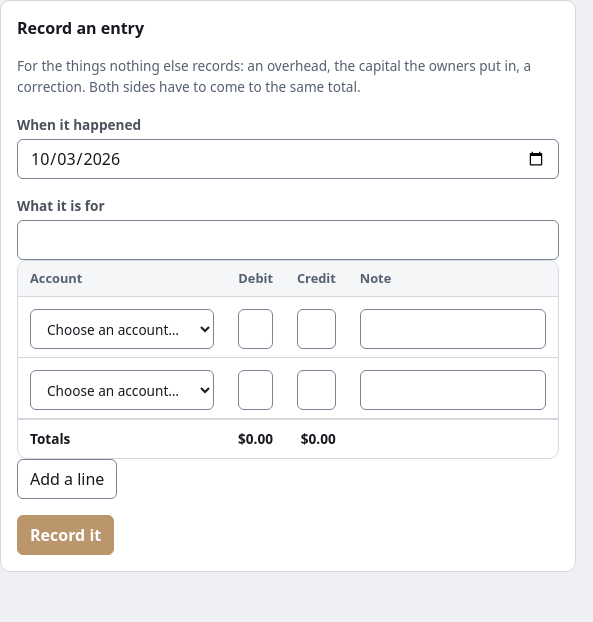
it: recording an entry by hand › will not send an entry that does not balance, and says by how much
Type "Wrong on purpose" into the field labelled "What it is for".
click(288, 240); type("Wrong on purpose")  # box [17,220,559,260]
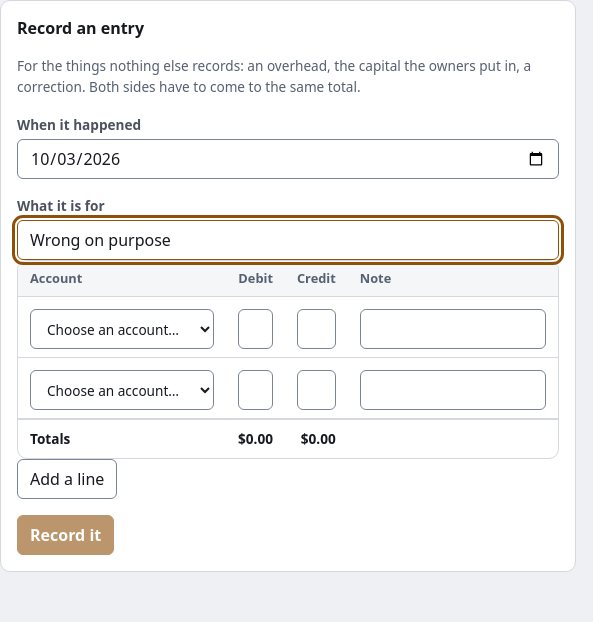
Select "6100 — Rent and premises" in the dropdown named "Account on line 1" at (122, 330), box [30,310,214,350]
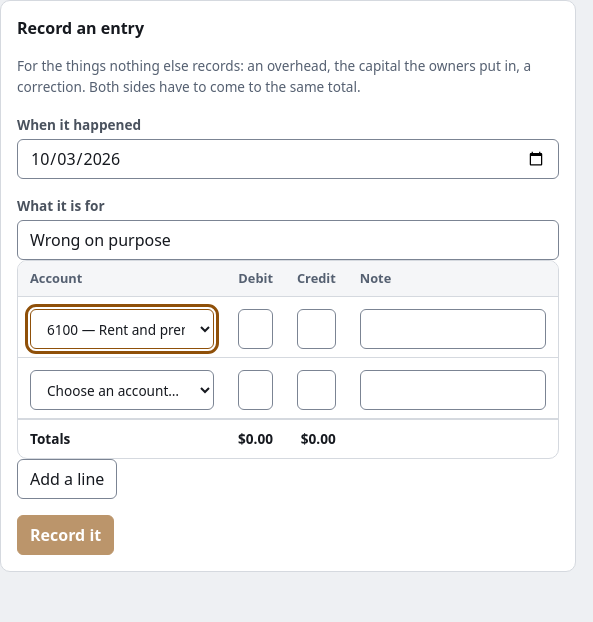
Type "1000" into the field named "Debit on line 1".
click(256, 330); type("1000")  # box [238,310,273,350]
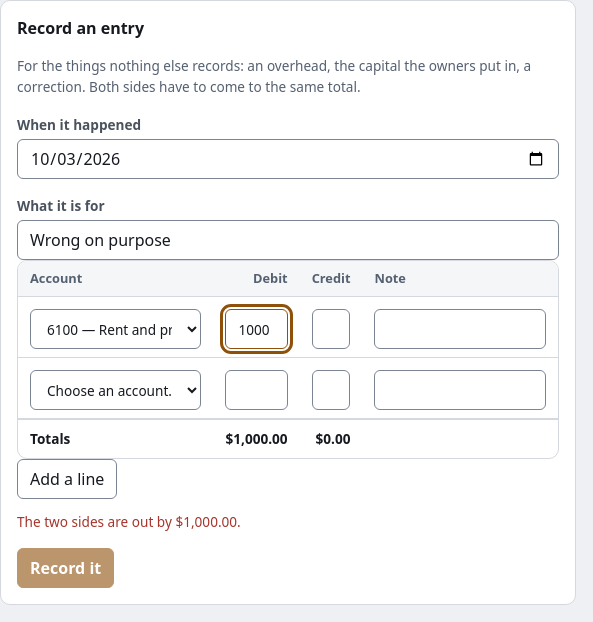
Select "1000 — Cash" in the dropdown named "Account on line 2" at (116, 390), box [30,370,202,410]
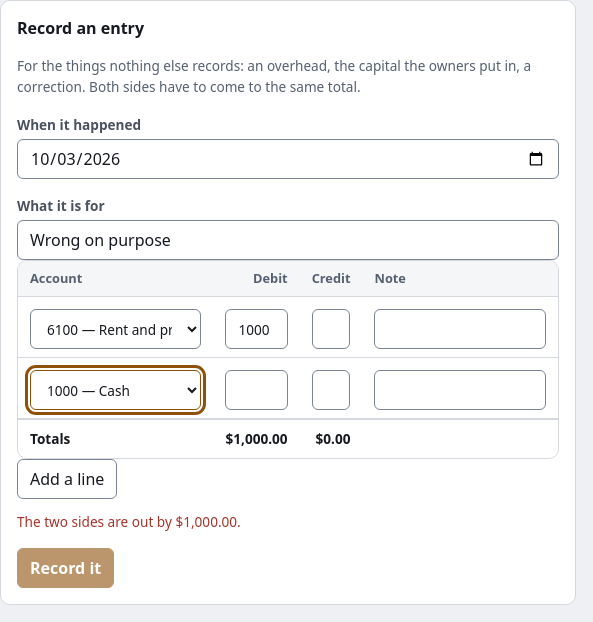
Type "900" into the field named "Credit on line 2".
click(331, 390); type("900")  # box [312,370,350,410]
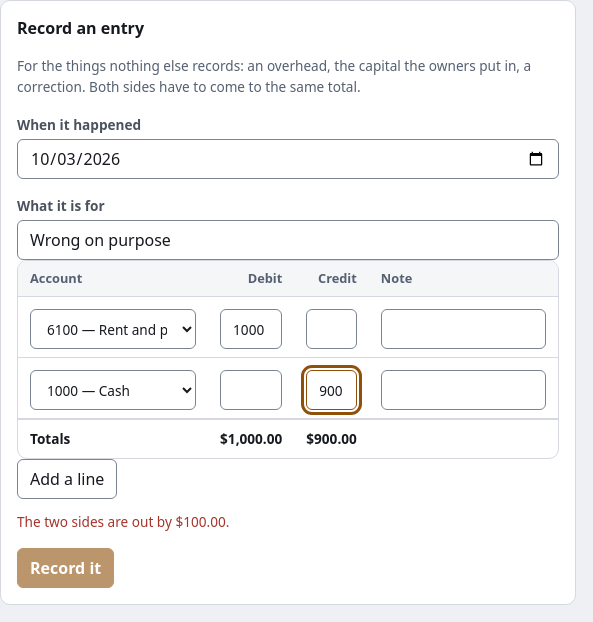
Expected: the button "Record it" is disabled, [17,548,114,588]
Expected: the text "The two sides are out by $100.00." is shown, [17,512,229,530]
